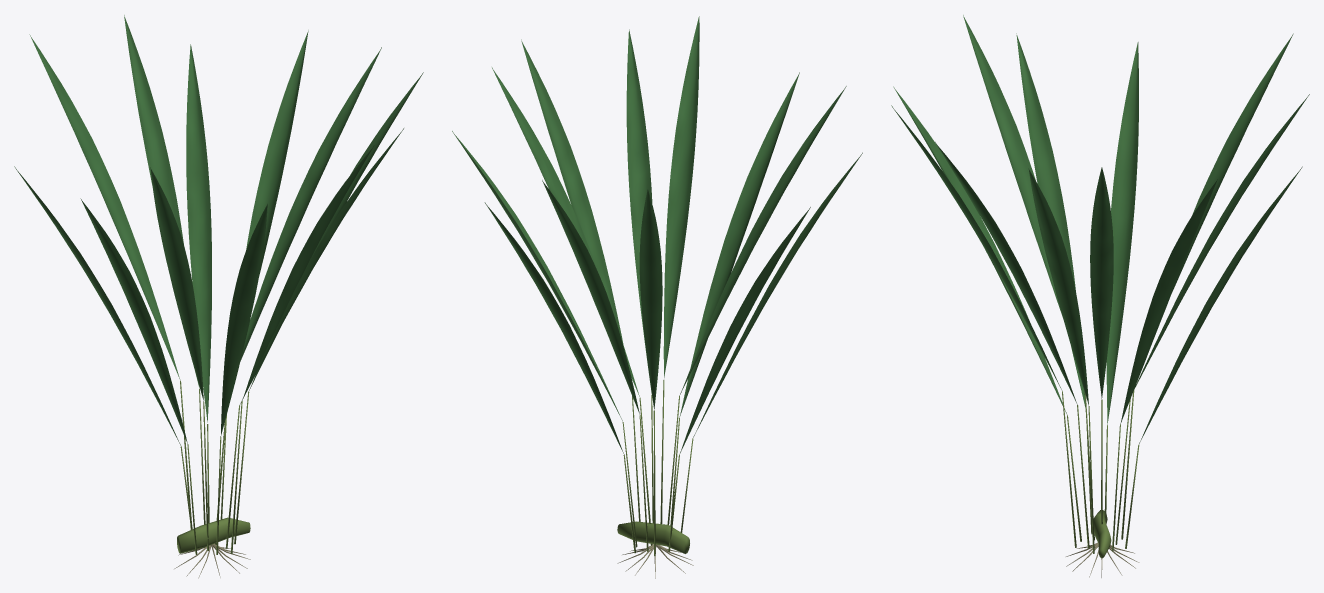
File: javafern-mobile.glb
3 views of the same model, side by side, from view 1: azimuth 30°, elevation 25°; view 2: azimuth 150°, elevation 25°; view 3: azimuth 270°, elevation 25° (orthographic). The views are drawn at different scales.
Parts seen in each view (by area): view 1: blade, petiole, creeping-rhizome; view 2: blade, petiole, creeping-rhizome; view 3: blade, petiole, creeping-rhizome.
Part boxes in pixels (left/top/right/bottom): blade: left=14, top=15, right=423, bottom=445; petiole: left=180, top=380, right=249, bottom=554; creeping-rhizome: left=177, top=517, right=250, bottom=553; blade: left=452, top=16, right=862, bottom=454; petiole: left=622, top=380, right=693, bottom=556; creeping-rhizome: left=617, top=521, right=689, bottom=553; blade: left=891, top=15, right=1309, bottom=443; petiole: left=1062, top=390, right=1139, bottom=553; creeping-rhizome: left=1092, top=510, right=1111, bottom=558.
Bounding box in the file's own units: 0.7485 × 0.9676 × 0.7548.
